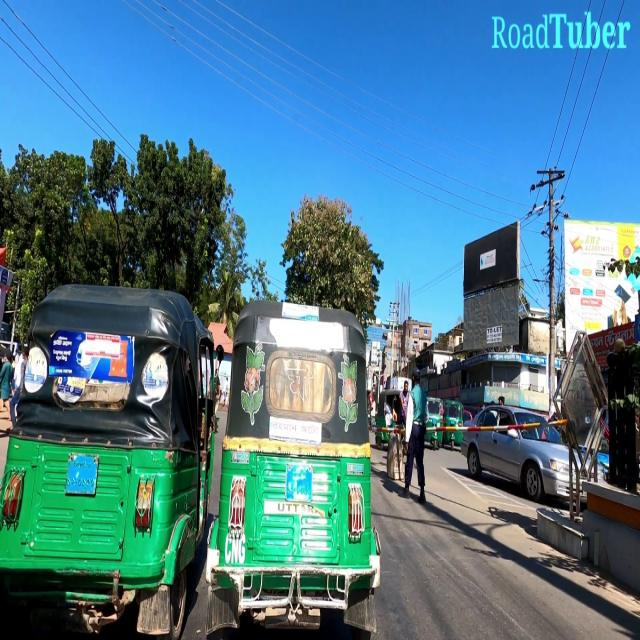silver: (462, 401, 586, 500)
